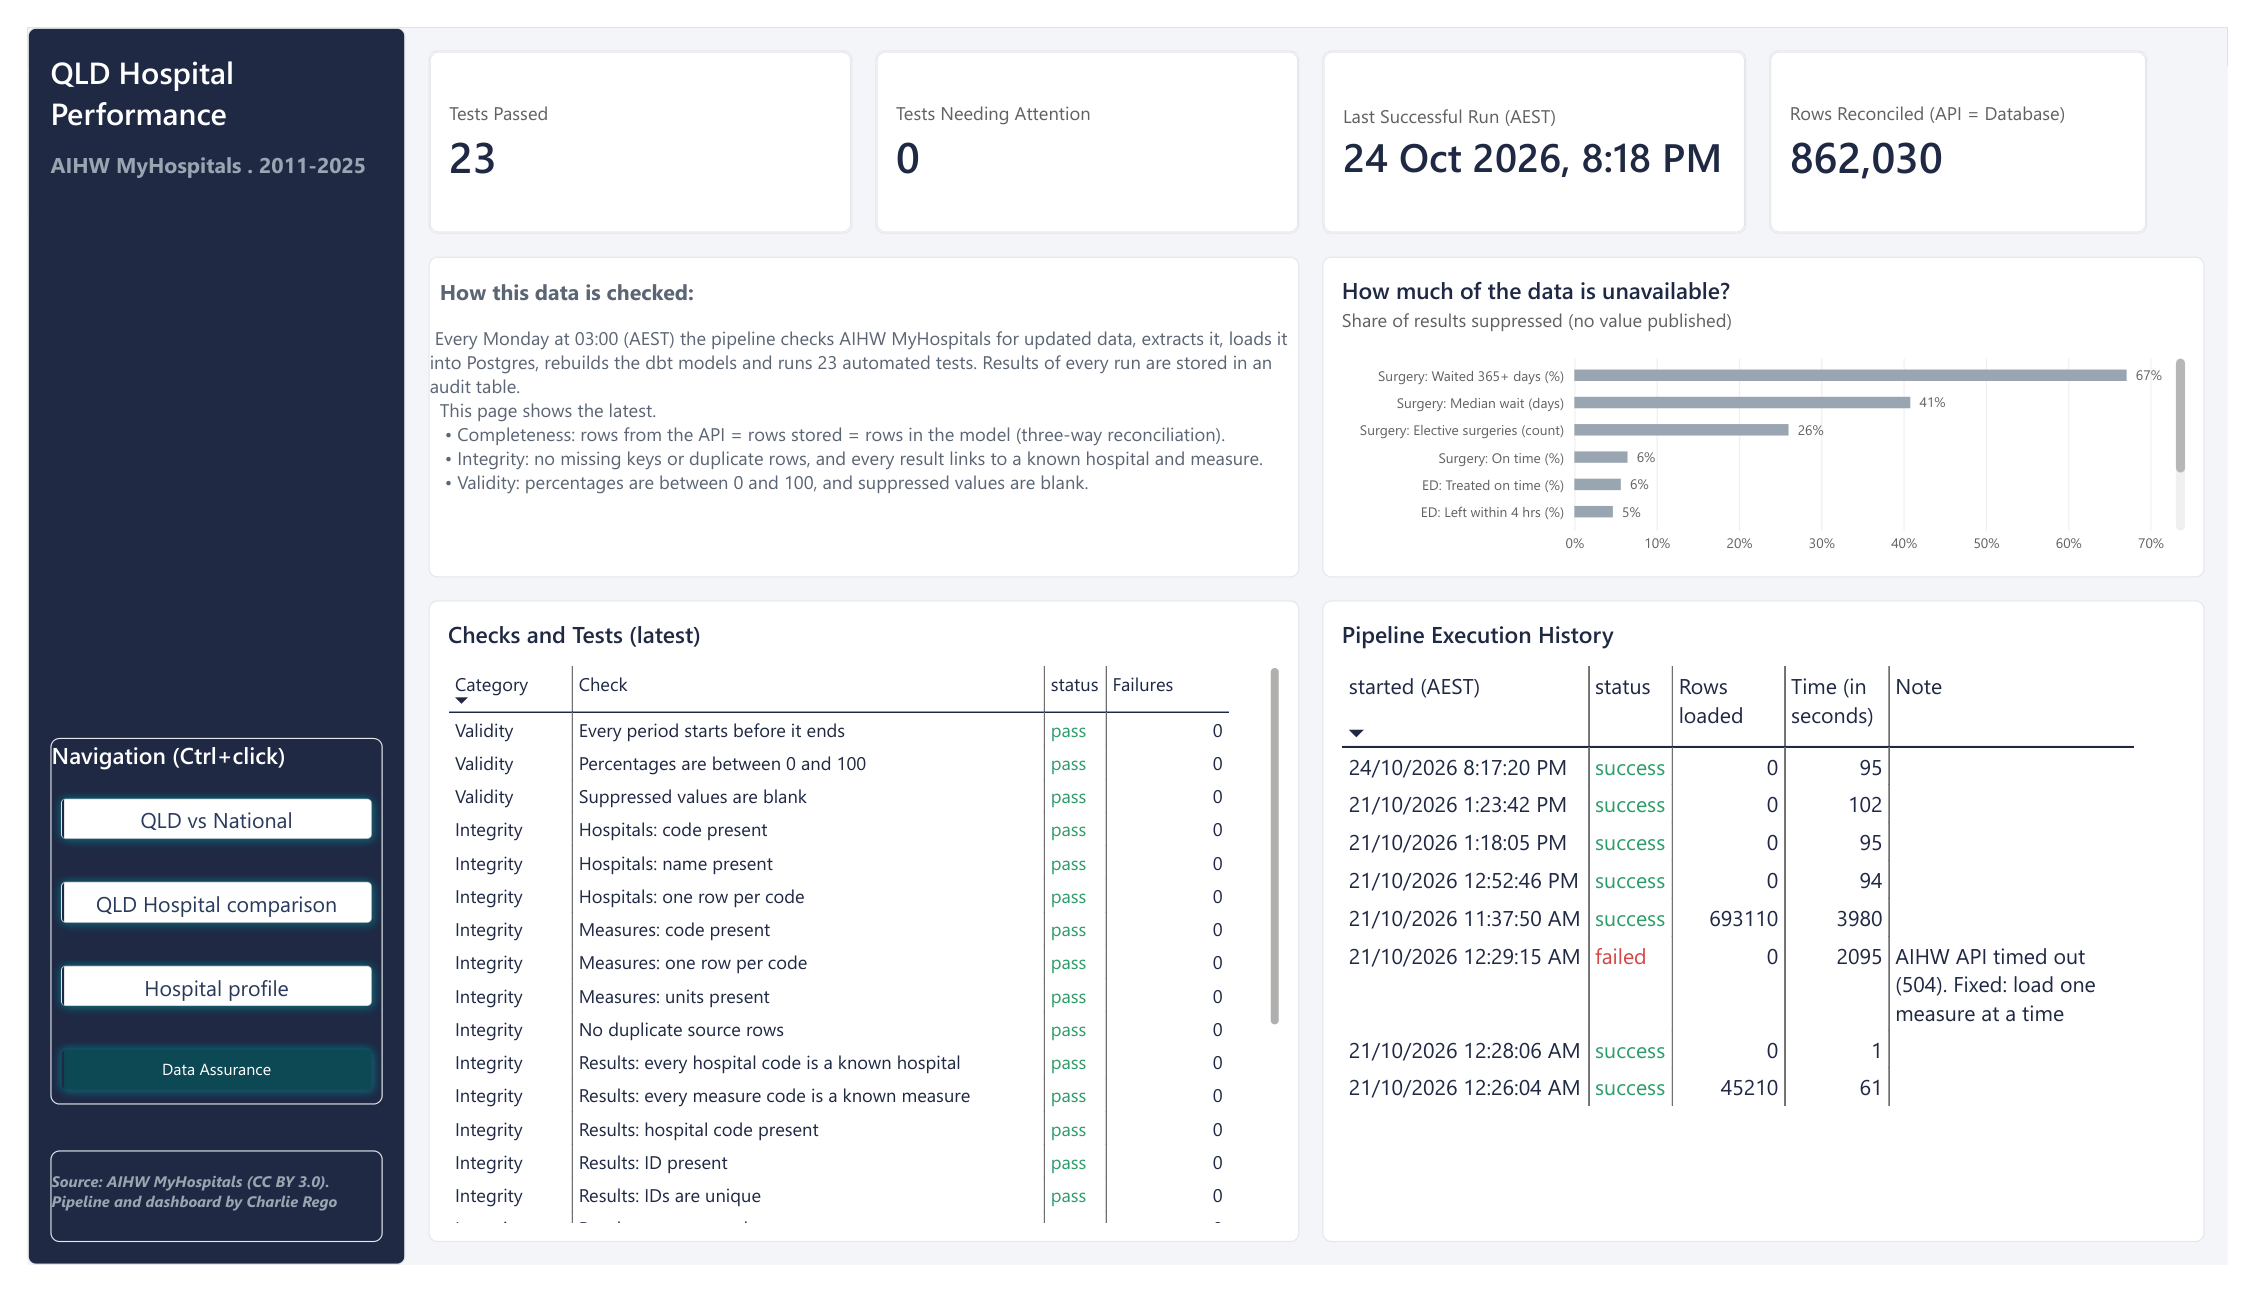

What the dashboard file says about the page in this screenshot:
{"tool":"powerbi","page":{"name":"Data Assurance","canvas":[1920,1080],"ordinal":3},"visuals":[{"type":"shape","box":[0,0,330,1080],"z":0},{"type":"textbox","title":"QLD Hospital Performance","box":[20,20,290,120],"z":1000},{"type":"cardVisual","fields":{"Data":["dim_measure.Tests Passed"]},"box":[350,20,370,160],"z":2000},{"type":"cardVisual","fields":{"Data":["dim_measure.Tests Needing Attention"]},"box":[740,20,370,160],"z":3000},{"type":"cardVisual","fields":{"Data":["dim_measure.Last Successful Run (AEST)"]},"box":[1130,20,370,160],"z":4000},{"type":"cardVisual","fields":{"Data":["dim_measure.Rows Reconciled (formatted)"]},"box":[1520,20,330,160],"z":5000},{"type":"textbox","box":[350,200,760,280],"z":6000},{"type":"tableEx","title":"Checks and Tests (latest)","fields":{"Values":["rpt_data_quality.Category","rpt_data_quality.Check","rpt_data_quality.status","Sum(rpt_data_quality.failures)"]},"box":[350,500,760,560],"z":7000},{"type":"tableEx","title":"Pipeline Execution History","fields":{"Values":["rpt_pipeline_runs.started_at","rpt_pipeline_runs.status","Sum(rpt_pipeline_runs.rows_loaded)","Sum(rpt_pipeline_runs.duration_seconds)","rpt_pipeline_runs.Note"]},"box":[1130,500,770,560],"z":8000},{"type":"pageNavigator","title":"Navigation (Ctrl+click)","box":[20,620,290,320],"z":8001},{"type":"textbox","box":[20,980,290,80],"z":8002},{"type":"clusteredBarChart","title":"How much of the data is unavailable?","fields":{"Category":["dim_measure.Measure Short Name"],"Y":["dim_measure.Suppressed Share"]},"box":[1130,200,770,280],"z":8003}]}

Visuals, with their boxes in screenshot pixels (x1, y1, x2, y2), scaled from the page's 1920x1080 canvas onto the 2255x1293 screenshot:
shape: BBox(0, 0, 388, 1292)
"QLD Hospital Performance" textbox: BBox(23, 24, 364, 168)
cardVisual - dim_measure.Tests Passed: BBox(411, 24, 846, 216)
cardVisual - dim_measure.Tests Needing Attention: BBox(869, 24, 1304, 216)
cardVisual - dim_measure.Last Successful Run (AEST): BBox(1327, 24, 1762, 216)
cardVisual - dim_measure.Rows Reconciled (formatted): BBox(1785, 24, 2173, 216)
textbox: BBox(411, 239, 1304, 575)
"Checks and Tests (latest)" tableEx: BBox(411, 599, 1304, 1269)
"Pipeline Execution History" tableEx: BBox(1327, 599, 2232, 1269)
"Navigation (Ctrl+click)" pageNavigator: BBox(23, 742, 364, 1125)
textbox: BBox(23, 1173, 364, 1269)
"How much of the data is unavailable?" clusteredBarChart: BBox(1327, 239, 2232, 575)
